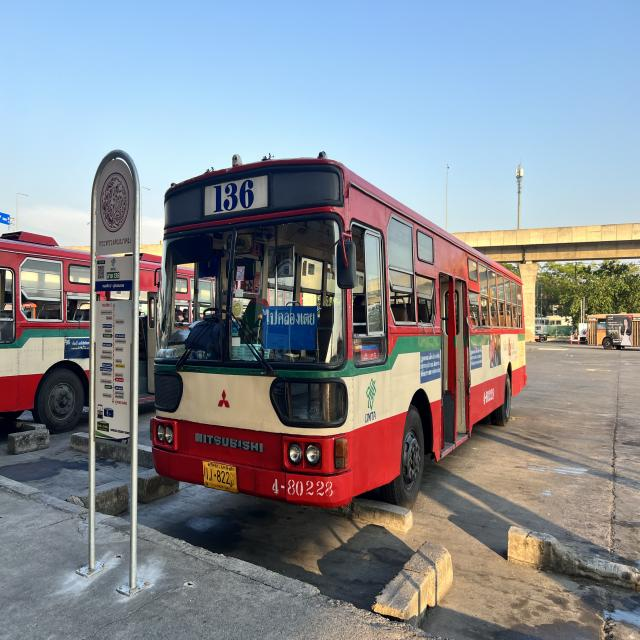BMTA-bus: (148, 156, 528, 512), (0, 152, 160, 436), (585, 312, 640, 351)
Bus-Line-Number: (203, 177, 261, 214)
Destination-Sign-Normal: (262, 303, 319, 351)
